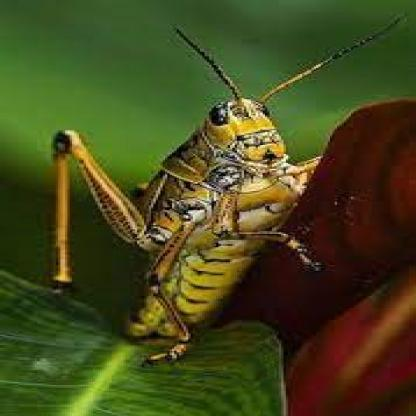grasshopper: (37, 23, 330, 366)
